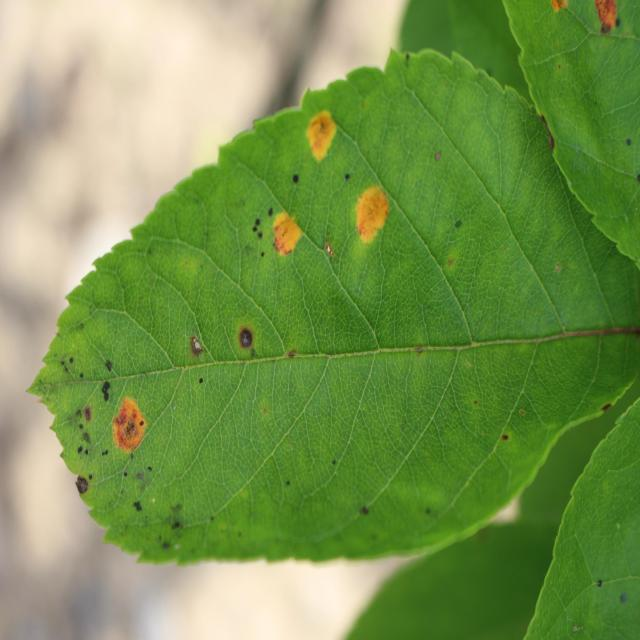rust: (24, 47, 636, 566), (500, 0, 640, 266)
